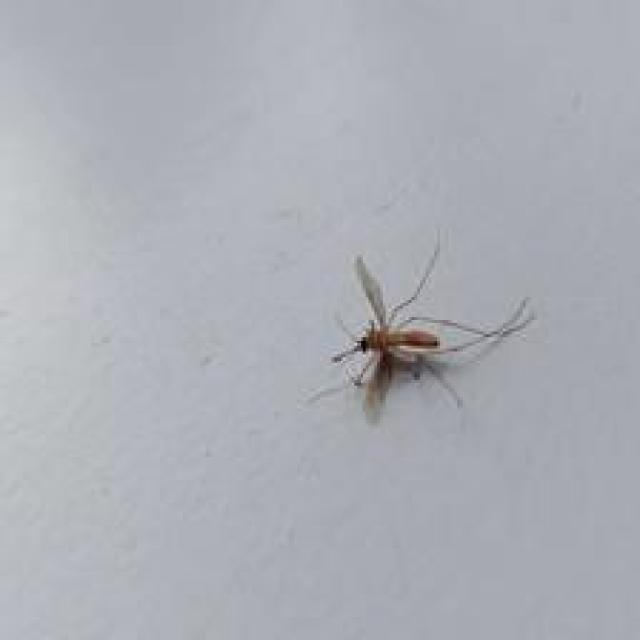Culex: (307, 231, 536, 426)
